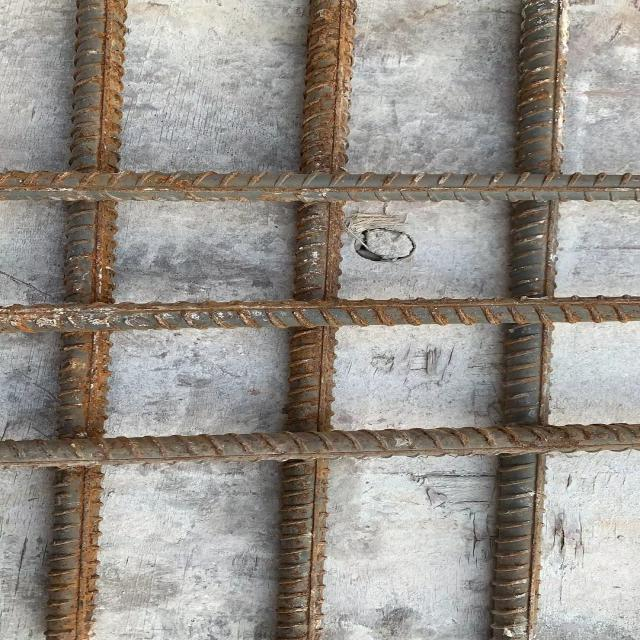ribbed bar: (483, 0, 573, 639), (42, 0, 129, 639), (276, 0, 358, 639), (0, 423, 639, 471), (0, 293, 639, 334), (0, 169, 639, 204)
